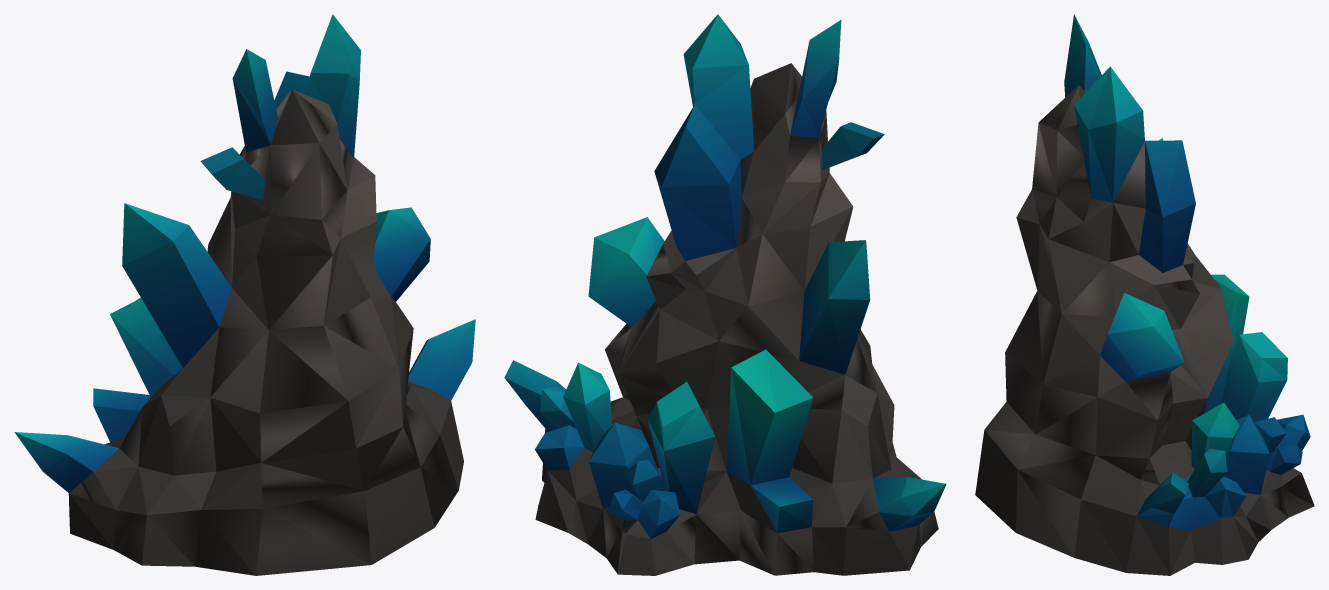
File: ZLP_Crystalk_A_7.FBX
3 views of the same model, side by side, from view 1: azimuth 30°, elevation 25°; view 2: azimuth 150°, elevation 25°; view 3: azimuth 270°, elevation 25° (orthographic). The views are drawn at different scales.
Visible parts, largest first — view 1: ZLP_Crystalk_A_7; view 2: ZLP_Crystalk_A_7; view 3: ZLP_Crystalk_A_7.
Boxes of the visible parts, x1=… form: ZLP_Crystalk_A_7: x1=14, y1=14, x2=475, y2=575; ZLP_Crystalk_A_7: x1=504, y1=14, x2=946, y2=575; ZLP_Crystalk_A_7: x1=975, y1=14, x2=1314, y2=575.
Size of the model in its own units: 192 by 200 by 137.
